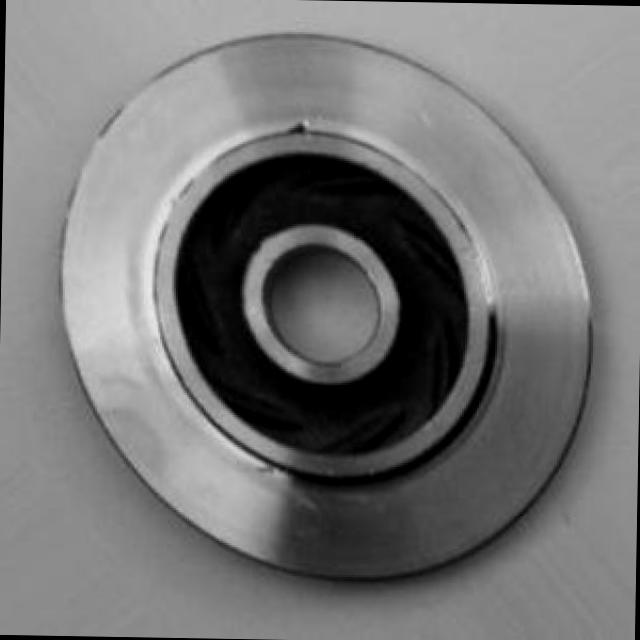Defect: (289, 117, 315, 138)
